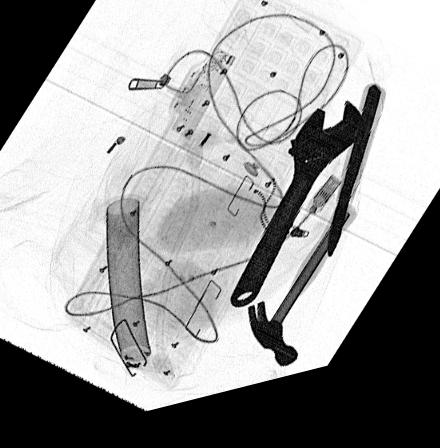Hammer: (244, 219, 356, 384)
Pliers: (323, 100, 390, 275)
Wrench: (233, 118, 365, 320)
